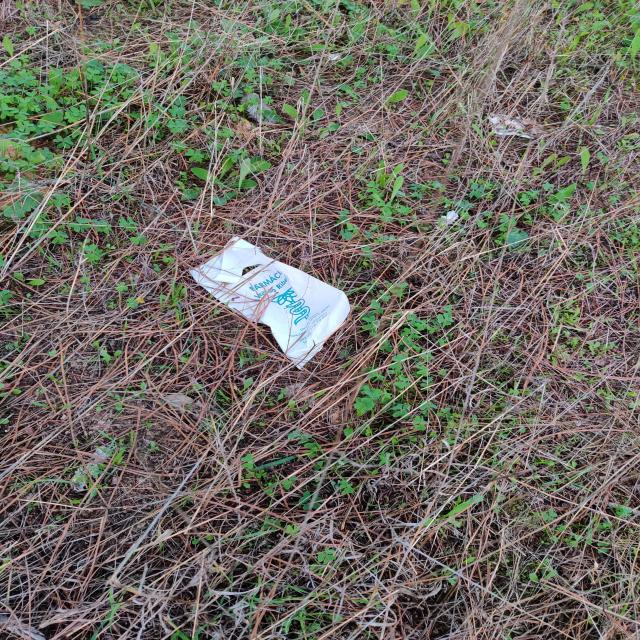litter: (175, 228, 365, 382)
